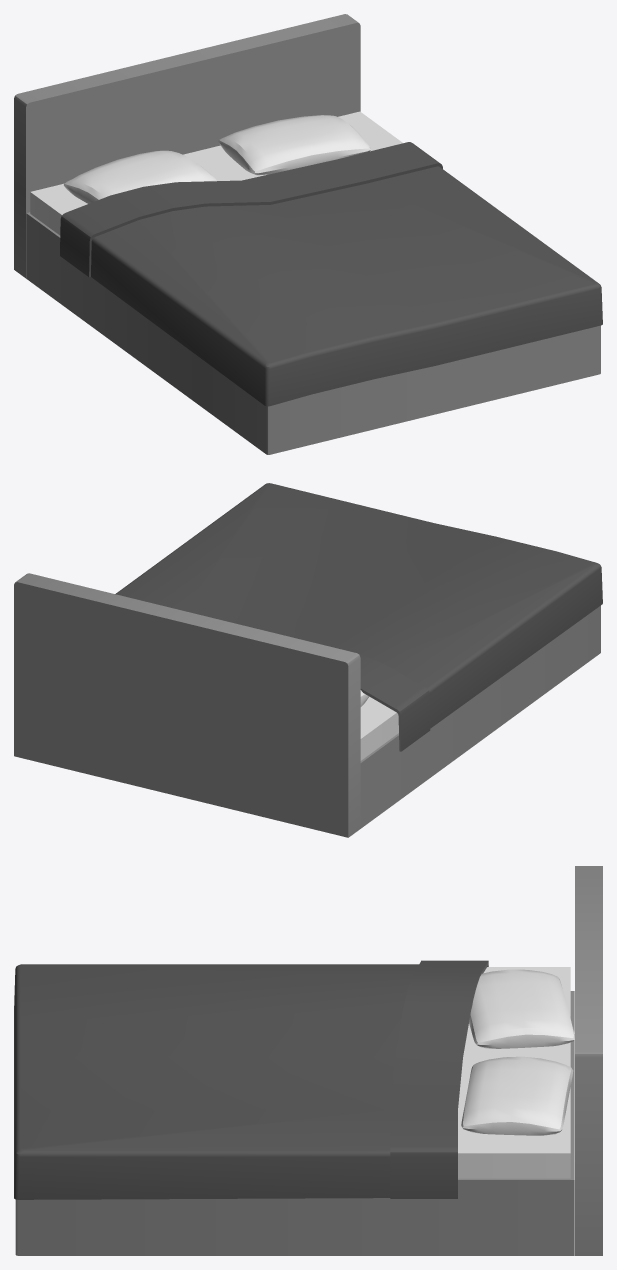
File: Bed1_C1.fbx
The picture shows the model from 3 angles, top to bottom: view 1: azimuth 30°, elevation 25°; view 2: azimuth 150°, elevation 25°; view 3: azimuth 270°, elevation 25°; orthographic projection. The views are drawn at different scales.
Parts seen in each view (by area): view 1: Bed1_C1; view 2: Bed1_C1; view 3: Bed1_C1.
Boxes of the visible parts, x1=… form: Bed1_C1: x1=14, y1=14, x2=602, y2=454; Bed1_C1: x1=14, y1=483, x2=602, y2=837; Bed1_C1: x1=14, y1=866, x2=602, y2=1255.
Bounding box in the file's own units: 163 × 80 × 211.
